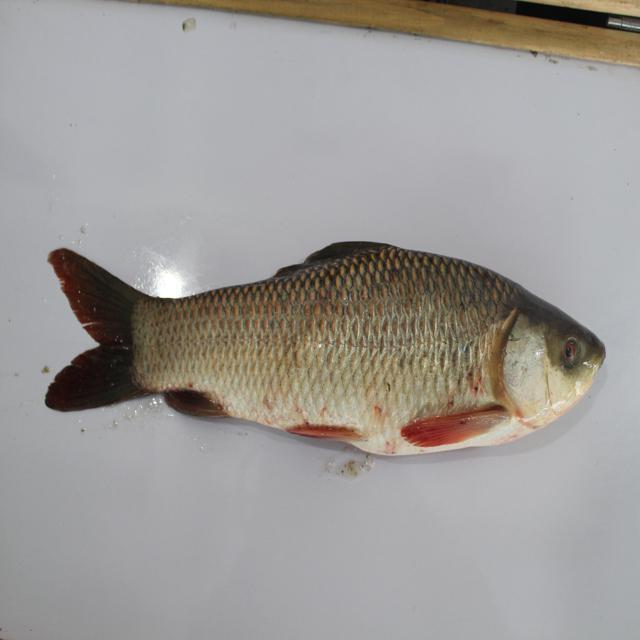Rohu: (45, 225, 614, 466)
